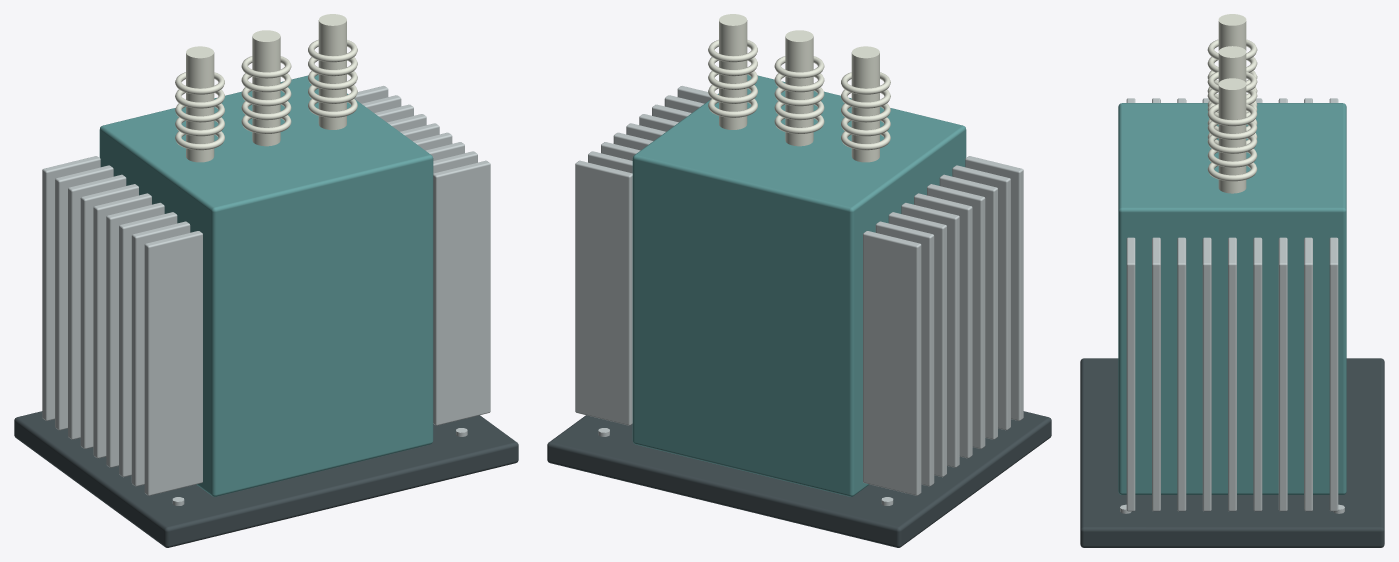
Rendered from hydroelectric-dam-infiltration-transformer-aa4a8d97__29349.glb.
3 views of the same model, side by side, from view 1: azimuth 30°, elevation 25°; view 2: azimuth 150°, elevation 25°; view 3: azimuth 270°, elevation 25° (orthographic).
Parts seen in each view (by area): view 1: transformer; view 2: transformer; view 3: transformer.
Boxes of the visible parts, left/top/right/bottom form: transformer: left=14, top=14, right=518, bottom=547; transformer: left=547, top=14, right=1051, bottom=547; transformer: left=1080, top=14, right=1384, bottom=547.
Bounding box in the file's own units: 1.6 × 1.79 × 1.2.
